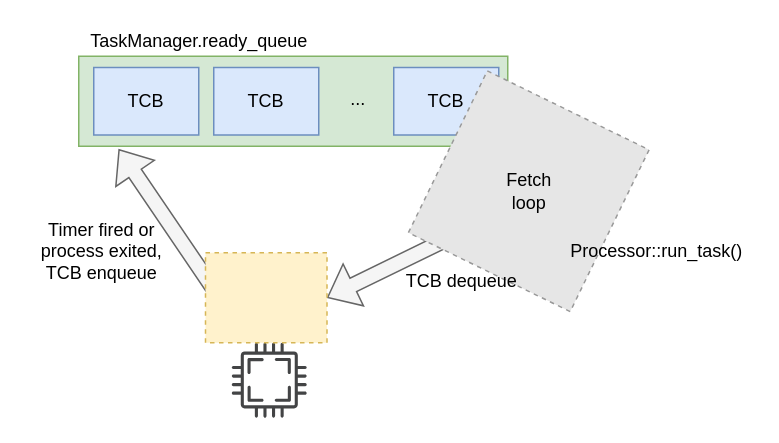
The diagram is 779 pixels wide and 443 high, and some of its shapes have lost their labels. Grey dashed boxes stand in for pictures. The centre of each missing label's shape, as x and y in pixels:
"CPU" goes at point (268, 379).
"Process" goes at point (265, 297).
